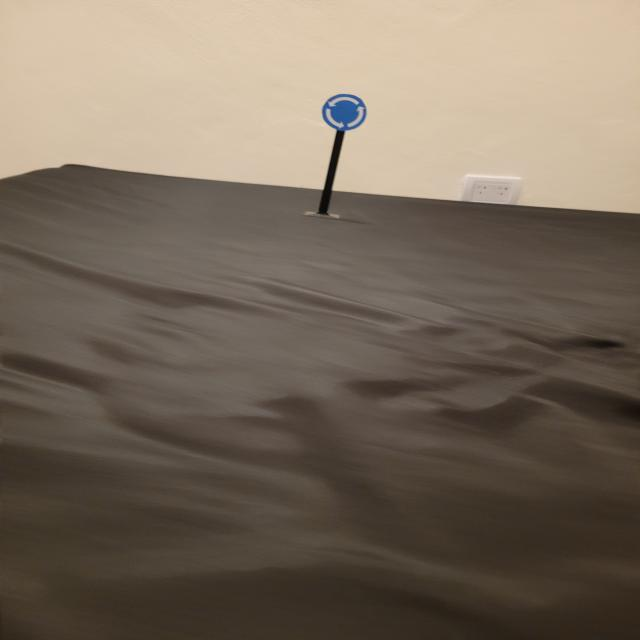round_about: (322, 93, 368, 132)
